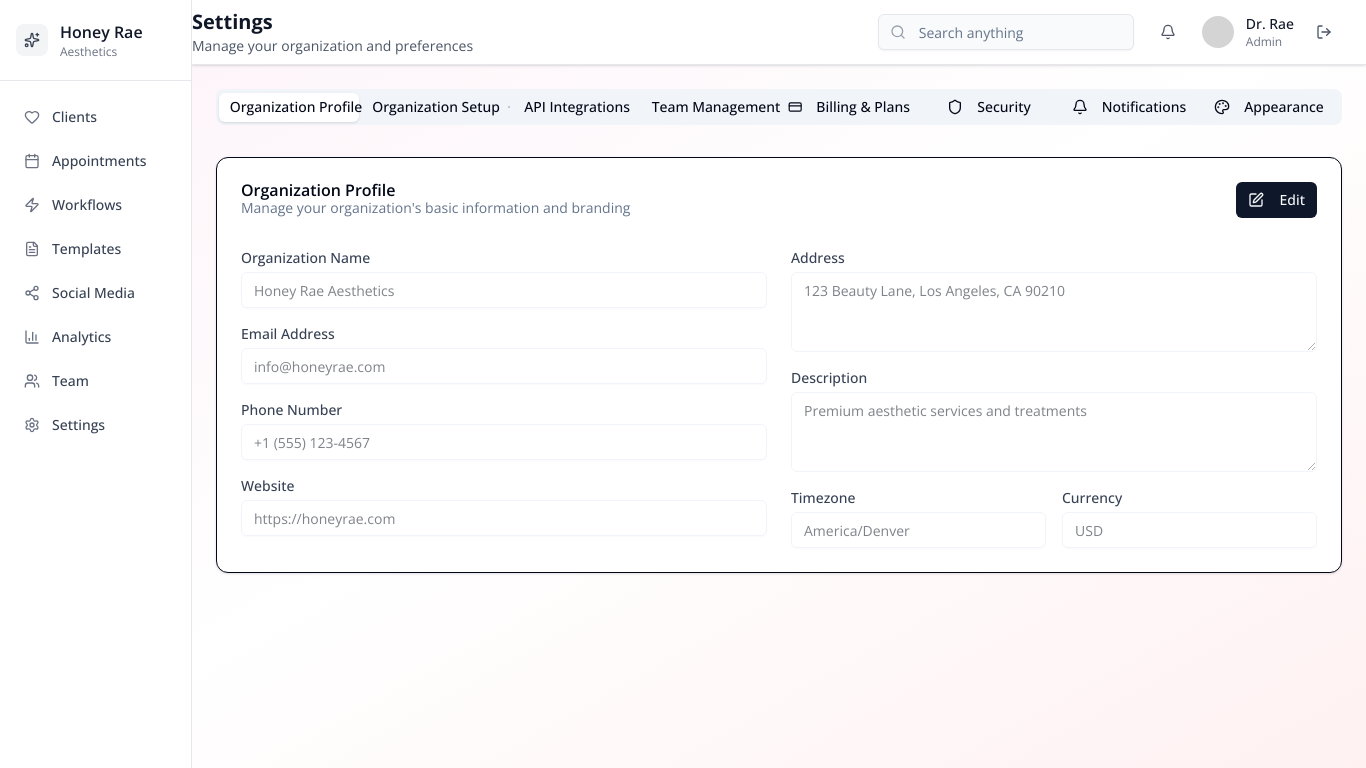
Test: Settings Page Layout › should show organization setup validation errors when missing required fields
The width and height of the screenshot is (1366, 768).
Click the tab "Organization Setup": (429, 107) left=359, top=92, right=499, bottom=122
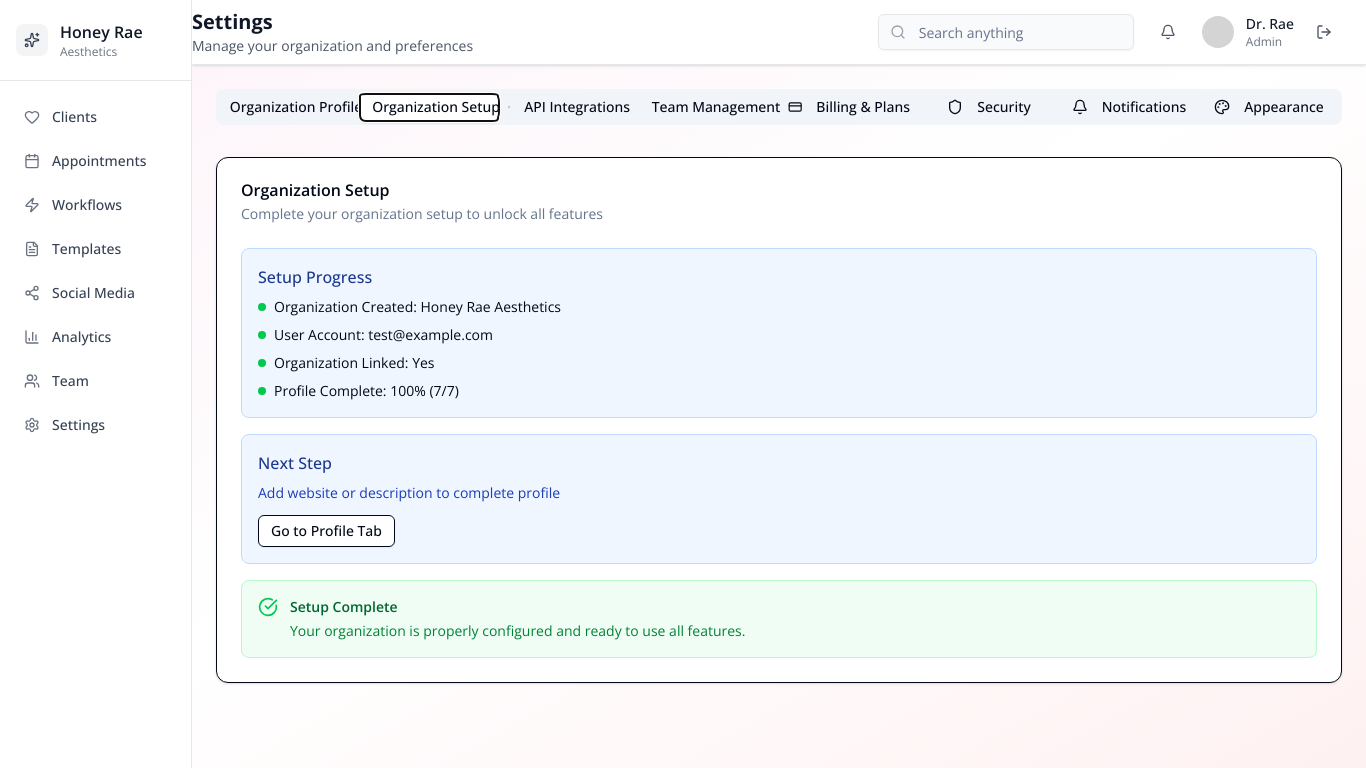
Expected: the heading "Setup Progress" is shown, left=258, top=266, right=372, bottom=288
Expected: the text "Organization Created: Honey Rae Aesthetics" is shown, left=274, top=297, right=561, bottom=317
Expected: the text "Organization Linked: Yes" is shown, left=274, top=353, right=434, bottom=373
